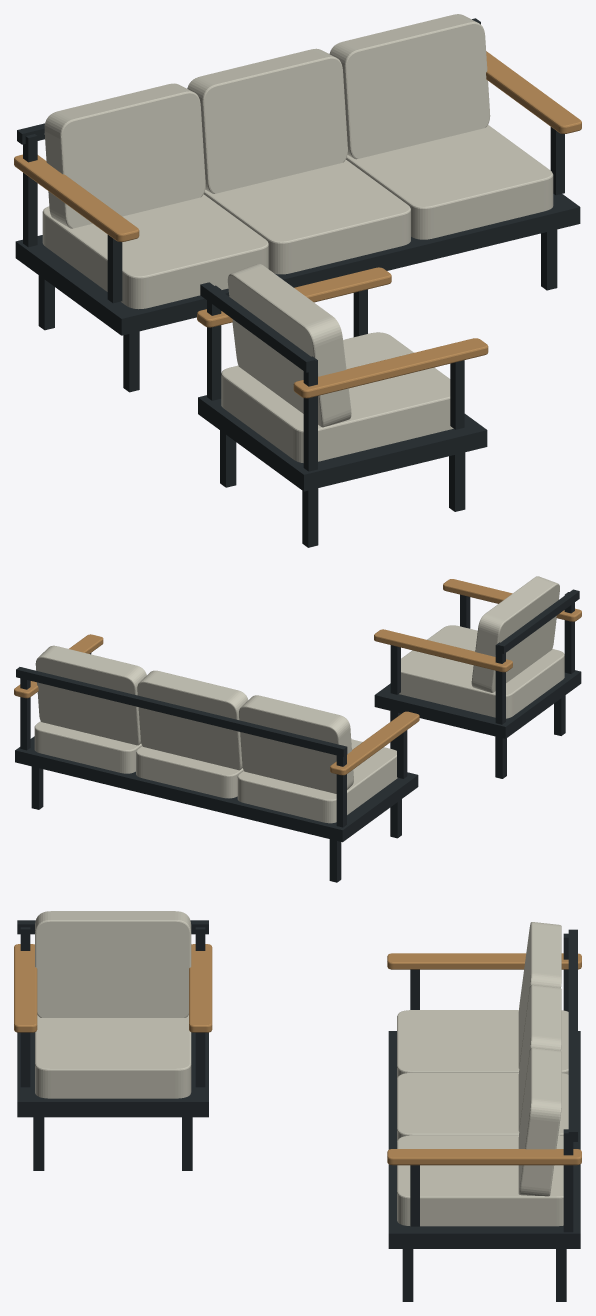
The model's file is outdoor-seating.glb.
3 views of the same model, one above another, from view 1: azimuth 30°, elevation 25°; view 2: azimuth 150°, elevation 25°; view 3: azimuth 270°, elevation 25° (orthographic). The views are drawn at different scales.
Visible parts, largest first — view 1: BackCushion (×4), SeatCushion (×4), SeatFrame (×2), OakArmrest (×4), SteelFoot (×6), RearSupport (×3), ArmSupport (×4), BackFrame; view 2: BackCushion (×4), SeatCushion (×4), SeatFrame (×2), OakArmrest (×4), BackFrame (×2), RearSupport (×4), SteelFoot (×5), ArmSupport (×2); view 3: SeatCushion (×4), BackCushion (×4), SeatFrame (×2), OakArmrest (×4), SteelFoot (×4), BackFrame, ArmSupport (×3), RearSupport.
Part boxes in pixels (<box>): BackCushion (×4): <box>44,14,490,427</box>; SeatCushion (×4): <box>42,125,553,462</box>; SeatFrame (×2): <box>15,194,580,491</box>; OakArmrest (×4): <box>14,51,581,398</box>; SteelFoot (×6): <box>38,229,557,547</box>; RearSupport (×3): <box>23,134,317,471</box>; ArmSupport (×4): <box>107,127,564,429</box>; BackFrame: <box>200,282,315,372</box>; BackCushion (×4): <box>35,576,559,793</box>; SeatCushion (×4): <box>34,625,564,823</box>; SeatFrame (×2): <box>15,670,581,842</box>; OakArmrest (×4): <box>14,579,581,775</box>; BackFrame (×2): <box>16,589,579,756</box>; RearSupport (×4): <box>20,592,574,827</box>; SteelFoot (×5): <box>31,695,565,882</box>; ArmSupport (×2): <box>390,645,407,778</box>; SeatCushion (×4): <box>35,1010,568,1226</box>; BackCushion (×4): <box>35,911,561,1196</box>; SeatFrame (×2): <box>17,1031,580,1248</box>; OakArmrest (×4): <box>14,944,581,1165</box>; SteelFoot (×4): <box>33,1117,566,1301</box>; BackFrame: <box>568,929,577,1141</box>; ArmSupport (×3): <box>20,1032,419,1226</box>; RearSupport: <box>563,1129,573,1232</box>.
Bounding box in the file's own units: 2.12 × 0.9035 × 2.37.
